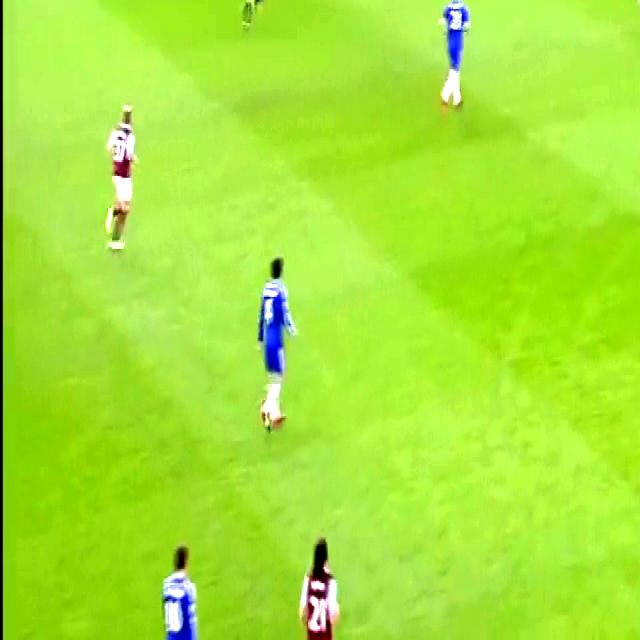referee: (234, 0, 275, 39)
soccer-player: (252, 247, 300, 440), (100, 87, 140, 269), (289, 533, 349, 640), (153, 529, 204, 640), (431, 0, 476, 121)
